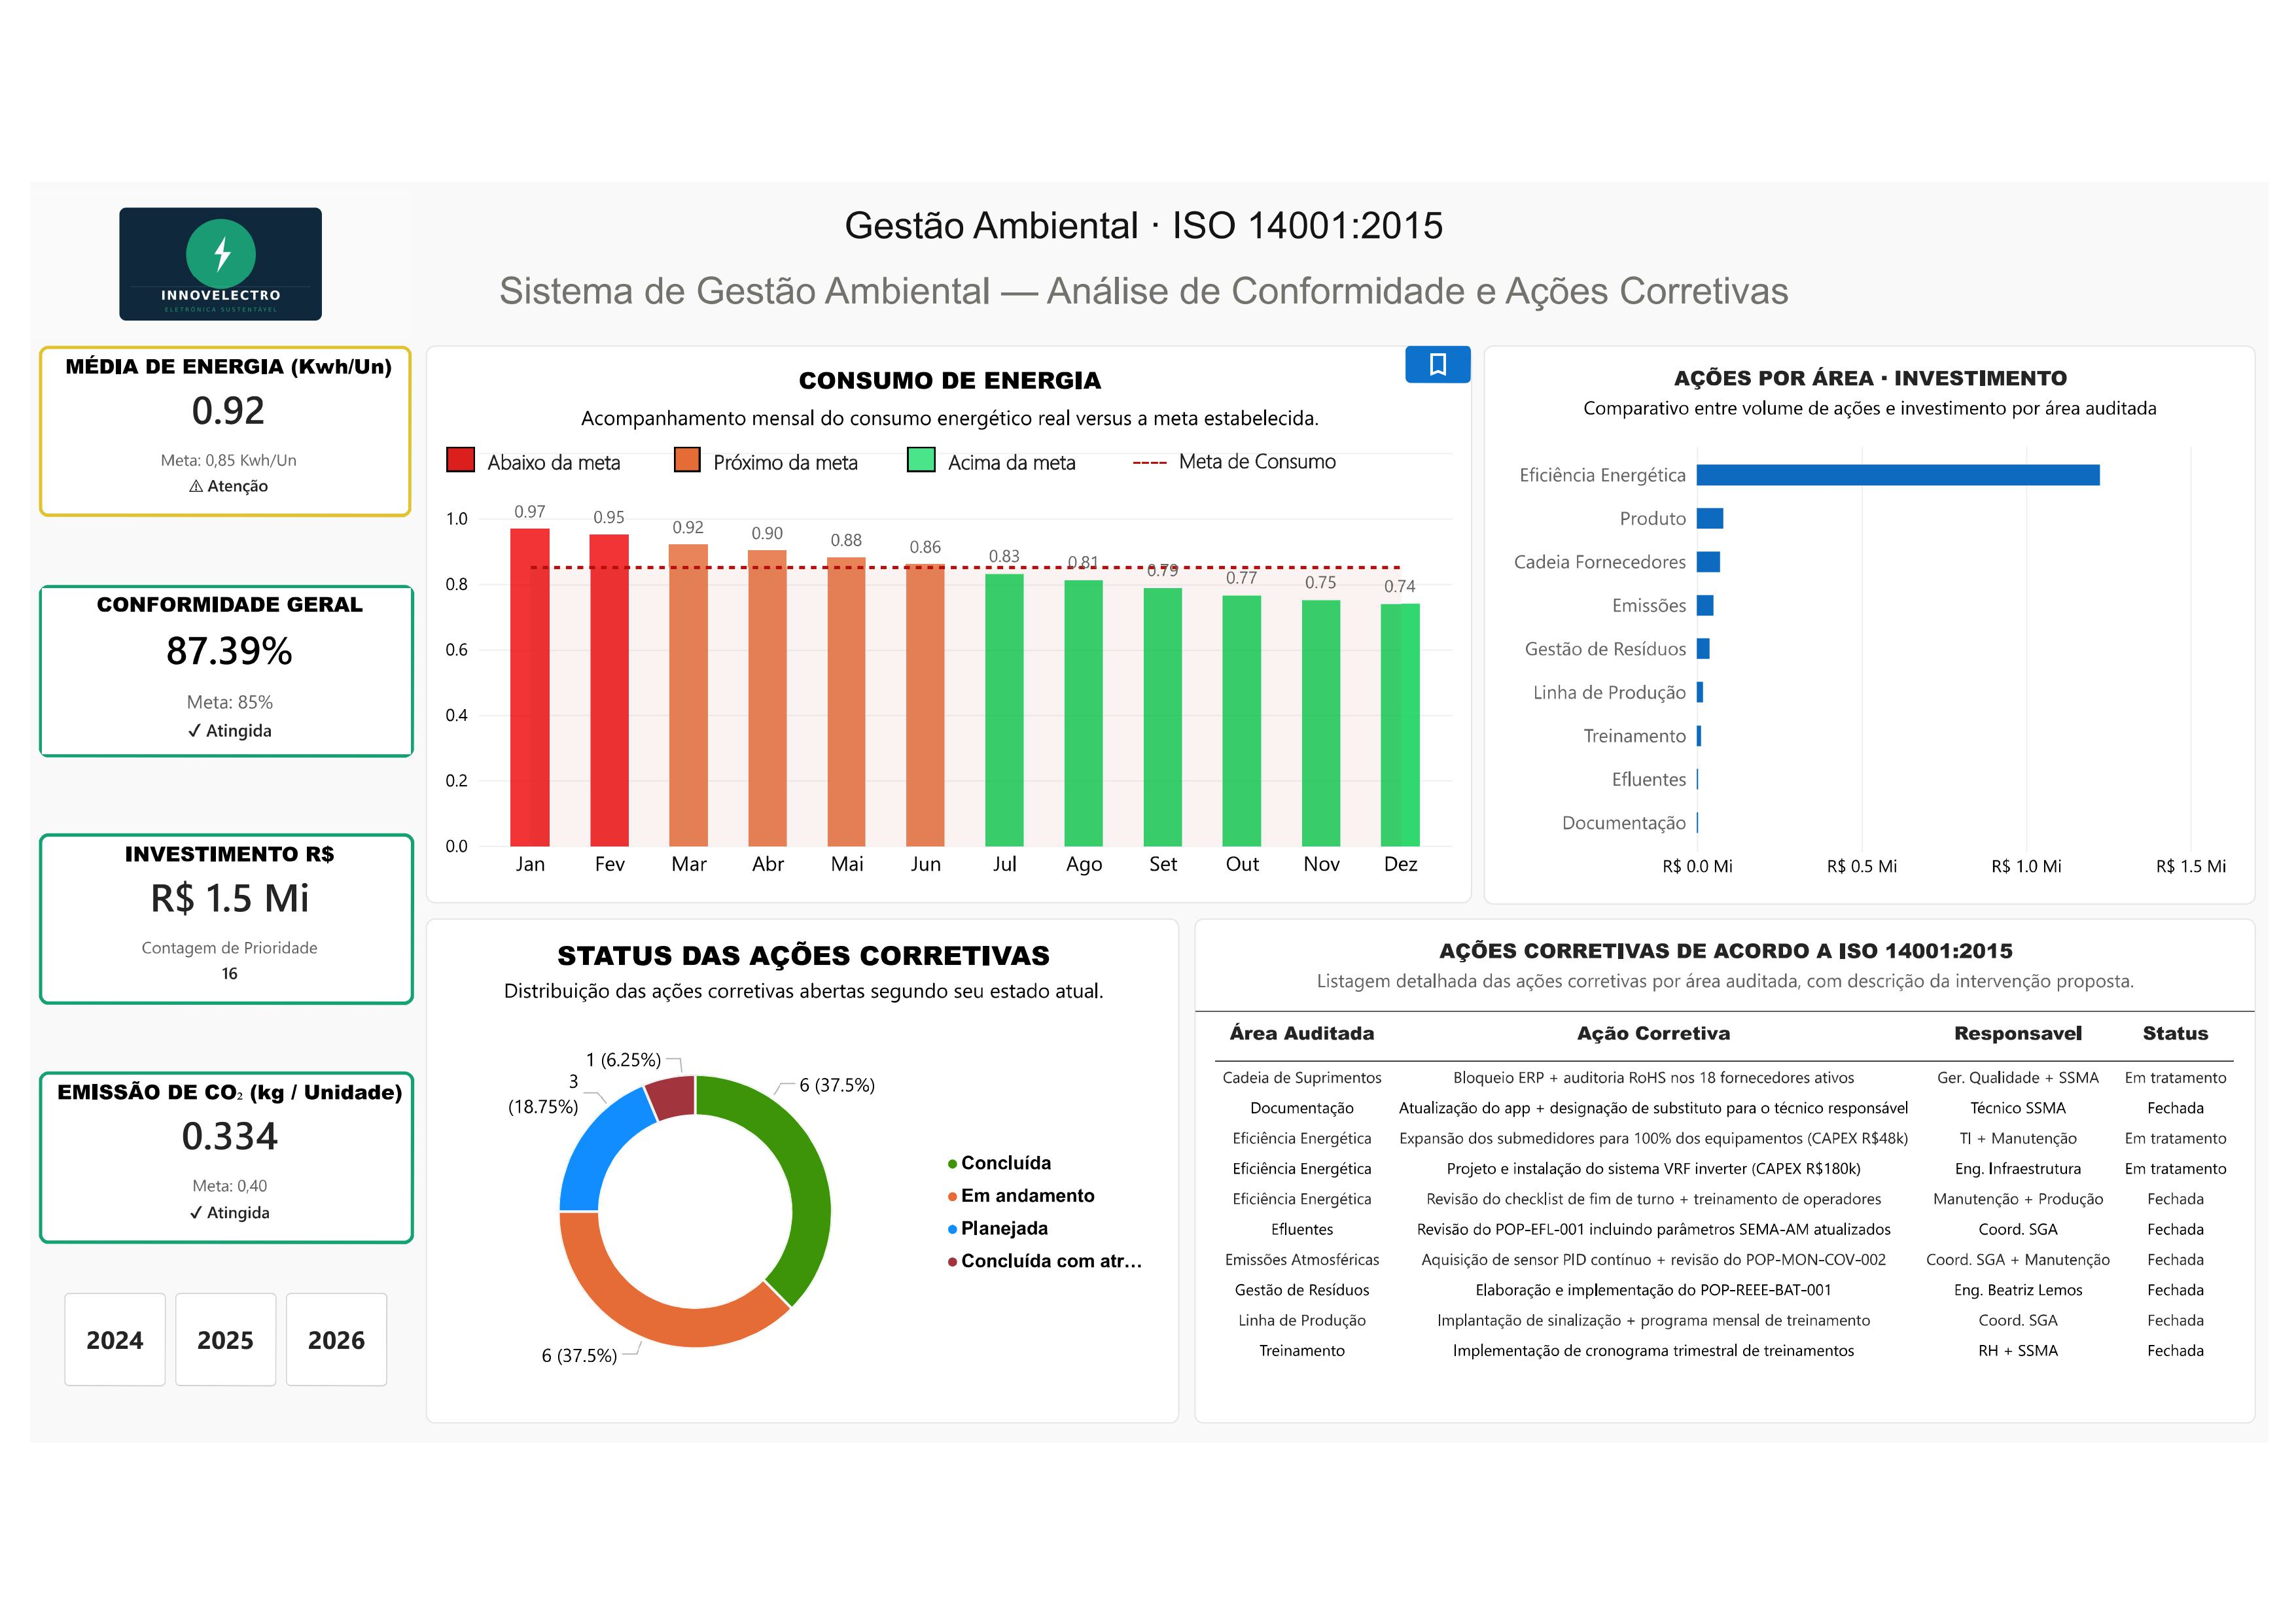

What the dashboard file says about the page in this screenshot:
{"tool":"powerbi","page":{"name":"SGA - ISO 14001","canvas":[1920,1080],"ordinal":0},"visuals":[{"type":"lineStackedColumnComboChart","title":"CONSUMO DE ENERGIA ","fields":{"Category":["dCalendario.Mes_Nome"],"Y":["fKPI_Mensal.Energia kWh por Unidade"],"Y2":["Avg(fKPI_Mensal.Meta_Energia)"]},"box":[340,140,896.7,478.3],"z":0},{"type":"donutChart","title":"STATUS DAS AÇÕES CORRETIVAS","fields":{"Category":["fAcoes_Corretivas.Status"],"Y":["CountNonNull(fAcoes_Corretivas.Prioridade)"]},"box":[340,631.4,645.7,432.9],"z":1000},{"type":"tableEx","title":"AÇÕES CORRETIVAS DE ACORDO A ISO 14001:2015","fields":{"Values":["fNao_Conformidades.Area_Auditada","fNao_Conformidades.Acao_Corretiva","fNao_Conformidades.Responsavel","fNao_Conformidades.Status"]},"box":[998.6,631.4,910,432.9],"z":2000},{"type":"clusteredBarChart","title":"AÇÕES POR ÁREA · INVESTIMENTO","fields":{"Category":["fAcoes_Corretivas.Area"],"Y":["Sum(fAcoes_Corretivas.Investimento_R$)"]},"box":[1247.1,140,661.4,478.6],"z":3000},{"type":"advancedSlicerVisual","fields":{"Values":["dCalendario.Ano"]},"box":[30,951.7,278.3,80],"z":4000},{"type":"cardVisual","title":"CONFORMIDADE GERAL","fields":{"Data":["fKPI_Mensal.Conformidade Geral Pct"]},"box":[8.3,345,321.7,148.3],"z":5000},{"type":"textbox","box":[30,0,1852,166],"z":6000},{"type":"cardVisual","title":"CONFORMIDADE GERAL","fields":{"Data":["Avg(fKPI_Mensal.Energia kWh por Unidad)"]},"box":[8.3,140,320,146.7],"z":7000},{"type":"cardVisual","title":"CONFORMIDADE GERAL","fields":{"Data":["Sum(fAcoes_Corretivas.Investimento_R$)"]},"box":[8.3,558.3,321.7,146.7],"z":8000},{"type":"cardVisual","title":"CONFORMIDADE GERAL","fields":{"Data":["Avg(fKPI_Mensal.CO2e_kg_unidade)"]},"box":[8.3,761.7,321.7,148.3],"z":9000},{"type":"actionButton","box":[1180,140,56,32],"z":10000},{"type":"image","box":[0,0,328,140],"z":11000},{"type":"textbox","title":"Acima da meta","box":[788.3,226.7,123.3,21.7],"z":12000},{"type":"shape","box":[753.3,226.7,23.3,21.7],"z":13000},{"type":"textbox","title":"Próximo da meta","box":[586.7,226.7,131.7,21.7],"z":14000},{"type":"shape","box":[553.3,226.7,21.7,21.7],"z":15000},{"type":"textbox","title":"Abaixo da meta","box":[393.3,226.7,125,21.7],"z":16000},{"type":"shape","box":[358.3,226.7,23.3,21.7],"z":17000},{"type":"textbox","title":"Meta de Consumo","box":[985.7,225.7,140,22.9],"z":18000},{"type":"textbox","title":"-----","box":[945.7,225.7,30,24.3],"z":19000}]}

Visuals, with their boxes on the page's 1920x1080 design canvas (x1, y1, x2, y2). These are canvas units, not pixel positions in the 2296x1623 screenshot, which may show the page scaled, cropped or inside an application window:
"CONSUMO DE ENERGIA " lineStackedColumnComboChart: Rect(340, 140, 1237, 618)
"STATUS DAS AÇÕES CORRETIVAS" donutChart: Rect(340, 631, 986, 1064)
"AÇÕES CORRETIVAS DE ACORDO A ISO 14001:2015" tableEx: Rect(999, 631, 1909, 1064)
"AÇÕES POR ÁREA · INVESTIMENTO" clusteredBarChart: Rect(1247, 140, 1908, 619)
advancedSlicerVisual - dCalendario.Ano: Rect(30, 952, 308, 1032)
"CONFORMIDADE GERAL" cardVisual: Rect(8, 345, 330, 493)
textbox: Rect(30, 0, 1882, 166)
"CONFORMIDADE GERAL" cardVisual: Rect(8, 140, 328, 287)
"CONFORMIDADE GERAL" cardVisual: Rect(8, 558, 330, 705)
"CONFORMIDADE GERAL" cardVisual: Rect(8, 762, 330, 910)
actionButton: Rect(1180, 140, 1236, 172)
image: Rect(0, 0, 328, 140)
"Acima da meta" textbox: Rect(788, 227, 912, 248)
shape: Rect(753, 227, 777, 248)
"Próximo da meta" textbox: Rect(587, 227, 718, 248)
shape: Rect(553, 227, 575, 248)
"Abaixo da meta" textbox: Rect(393, 227, 518, 248)
shape: Rect(358, 227, 382, 248)
"Meta de Consumo" textbox: Rect(986, 226, 1126, 249)
"-----" textbox: Rect(946, 226, 976, 250)
